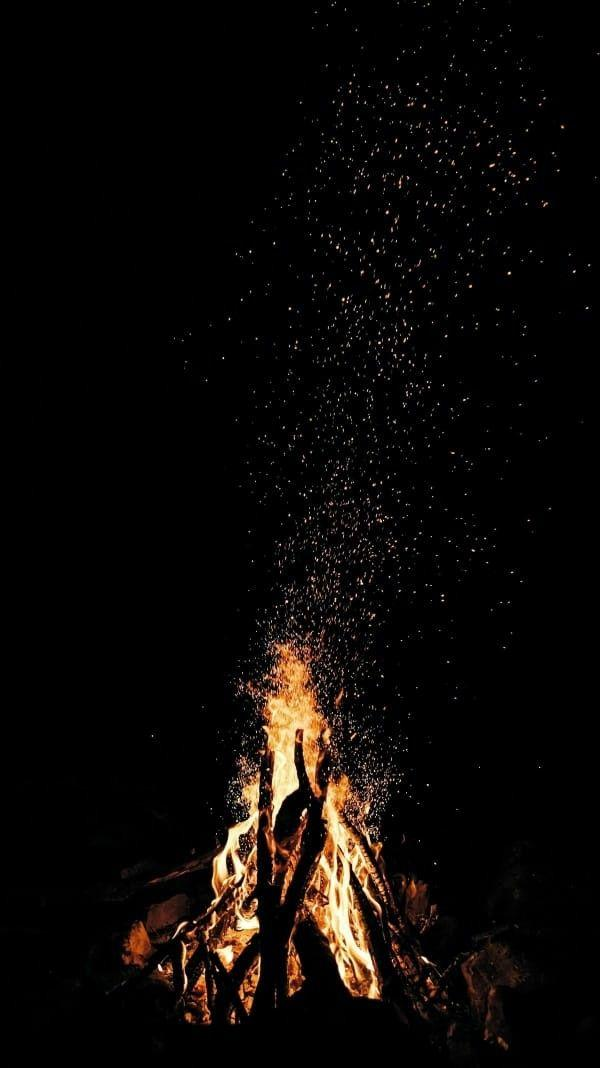fire: (199, 619, 386, 937)
